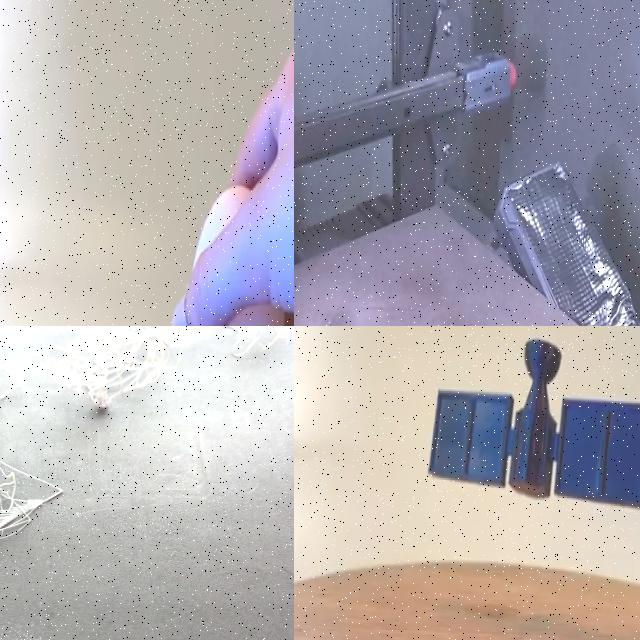spaghetti: (0, 326, 294, 548)
